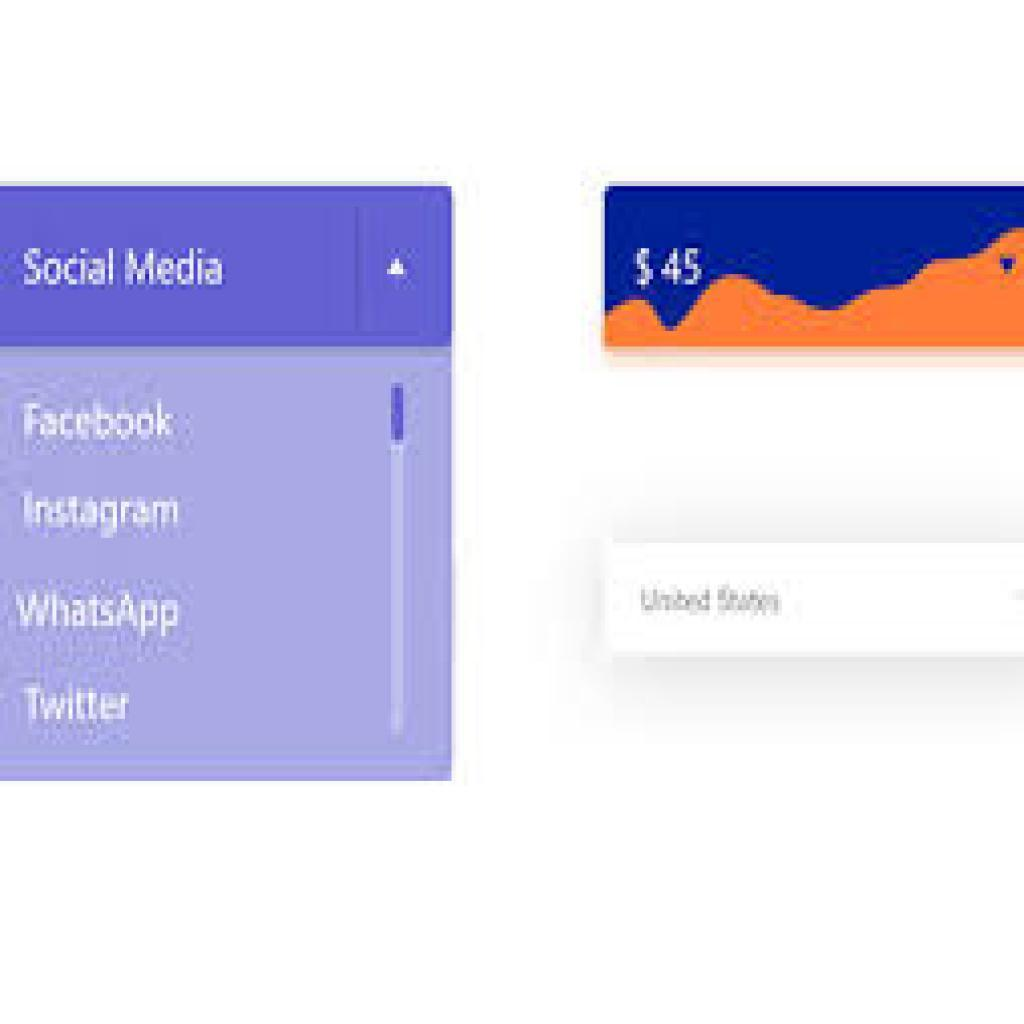dropdown: (1, 184, 452, 343)
